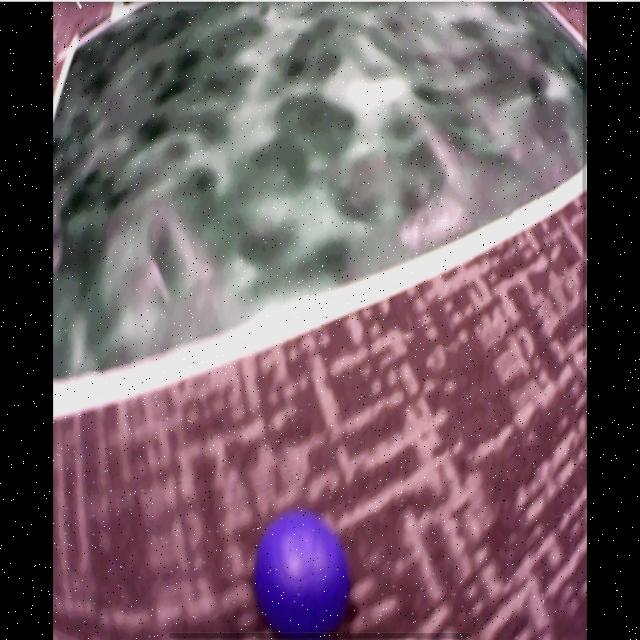ball: (255, 513, 348, 635)
